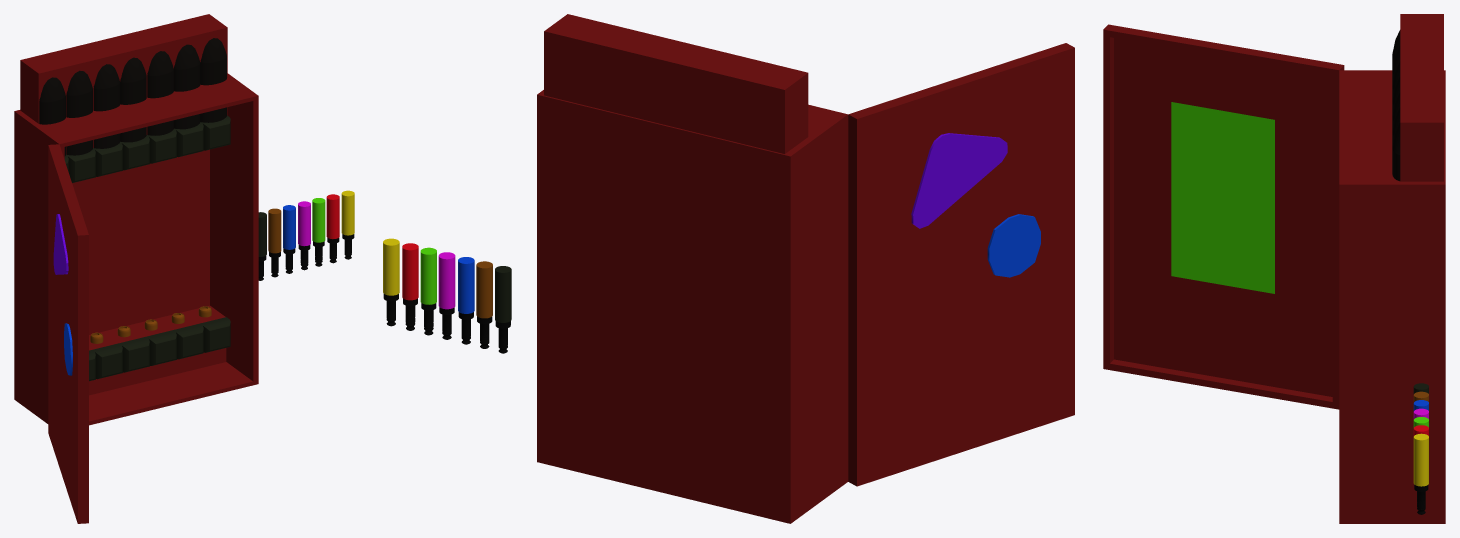
Rendered from SM_Simon_ElectricPanel.fbx.
The picture shows the model from 3 angles, left to right: view 1: azimuth 30°, elevation 25°; view 2: azimuth 150°, elevation 25°; view 3: azimuth 270°, elevation 25°; orthographic projection. The views are drawn at different scales.
Parts seen in each view (by area): view 1: polySurface90, polySurface81, polySurface89, polySurface88, polySurface84, polySurface87, polySurface86, polySurface85, polySurface83; view 2: polySurface90, polySurface81, polySurface86, polySurface88, polySurface87, polySurface89, polySurface83, polySurface84, polySurface85; view 3: polySurface81, polySurface90, polySurface89.
Part boxes in pixels (x1=…): polySurface90: x1=14, y1=14, x2=258, y2=425; polySurface81: x1=48, y1=144, x2=88, y2=523; polySurface89: x1=341, y1=190, x2=354, y2=259; polySurface88: x1=326, y1=194, x2=339, y2=263; polySurface84: x1=268, y1=208, x2=281, y2=277; polySurface87: x1=312, y1=198, x2=325, y2=266; polySurface86: x1=298, y1=201, x2=310, y2=270; polySurface85: x1=283, y1=205, x2=295, y2=273; polySurface83: x1=258, y1=212, x2=266, y2=280; polySurface90: x1=537, y1=14, x2=848, y2=523; polySurface81: x1=848, y1=43, x2=1074, y2=486; polySurface86: x1=438, y1=252, x2=455, y2=339; polySurface88: x1=402, y1=243, x2=418, y2=330; polySurface87: x1=420, y1=247, x2=436, y2=335; polySurface89: x1=383, y1=238, x2=399, y2=326; polySurface83: x1=495, y1=266, x2=511, y2=353; polySurface84: x1=476, y1=261, x2=492, y2=348; polySurface85: x1=458, y1=257, x2=474, y2=344; polySurface81: x1=1103, y1=24, x2=1344, y2=409; polySurface90: x1=1339, y1=14, x2=1445, y2=523; polySurface89: x1=1413, y1=433, x2=1428, y2=514.
Bounding box in the file's own units: 4.96 × 3.93 × 3.06.
